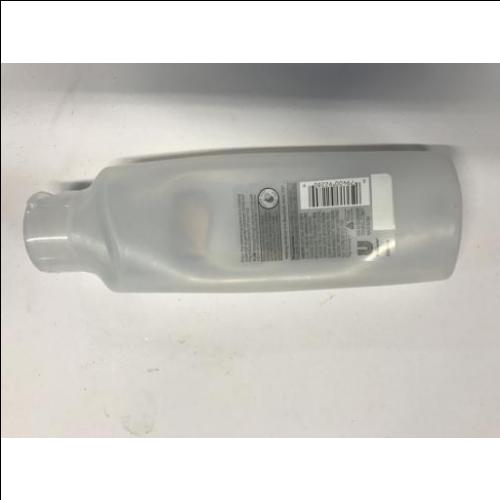plastic: (21, 147, 464, 295)
